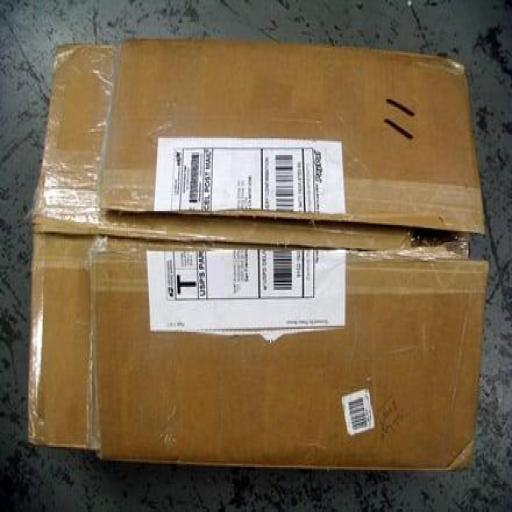cardboard: (26, 37, 489, 474)
